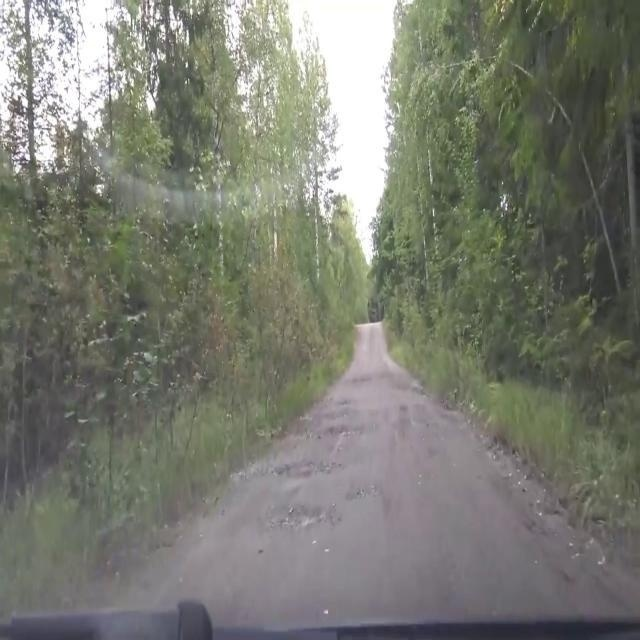pothole: (260, 490, 337, 548), (268, 444, 340, 492), (342, 470, 384, 510), (321, 419, 365, 449), (314, 399, 350, 432), (343, 366, 383, 388), (334, 387, 354, 414)
